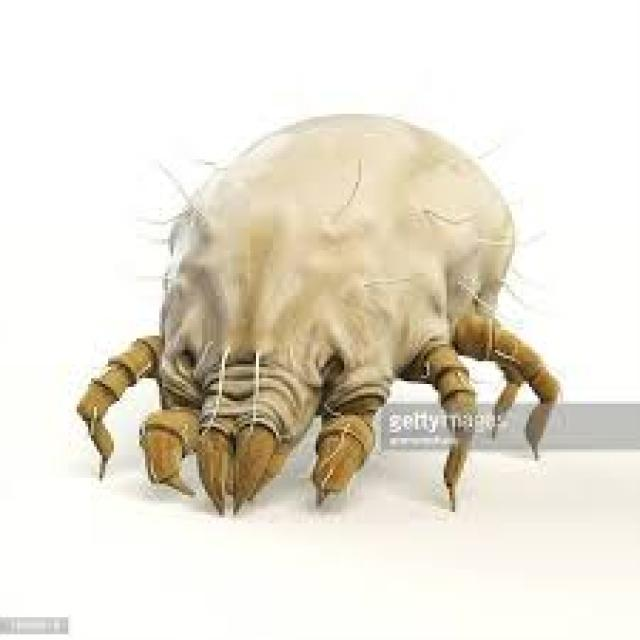Mites: (68, 104, 574, 519)
